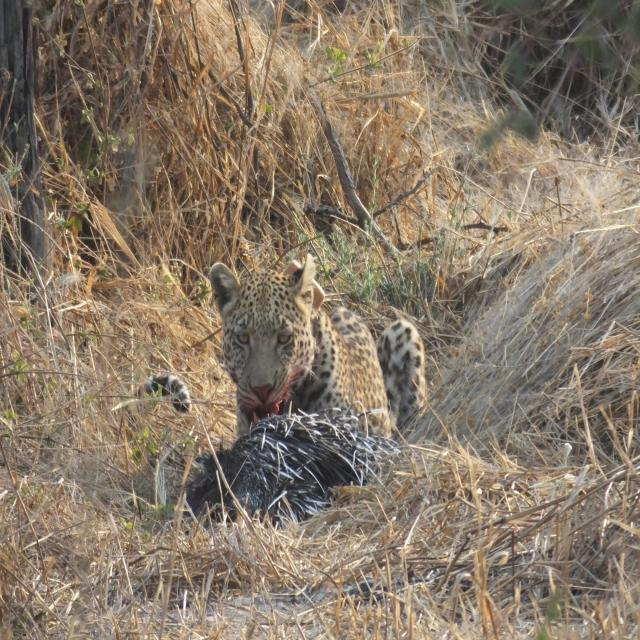Leopard: (138, 245, 432, 445)
